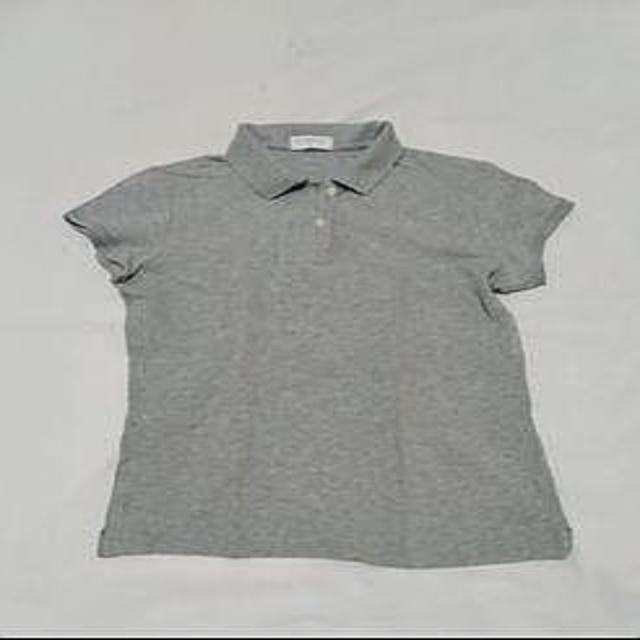T_SHIRT: (29, 108, 632, 582)
